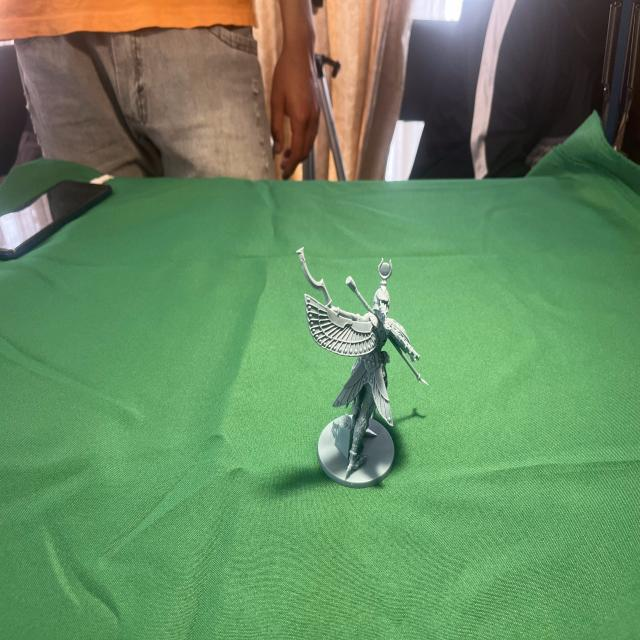isis: (283, 218, 437, 496)
